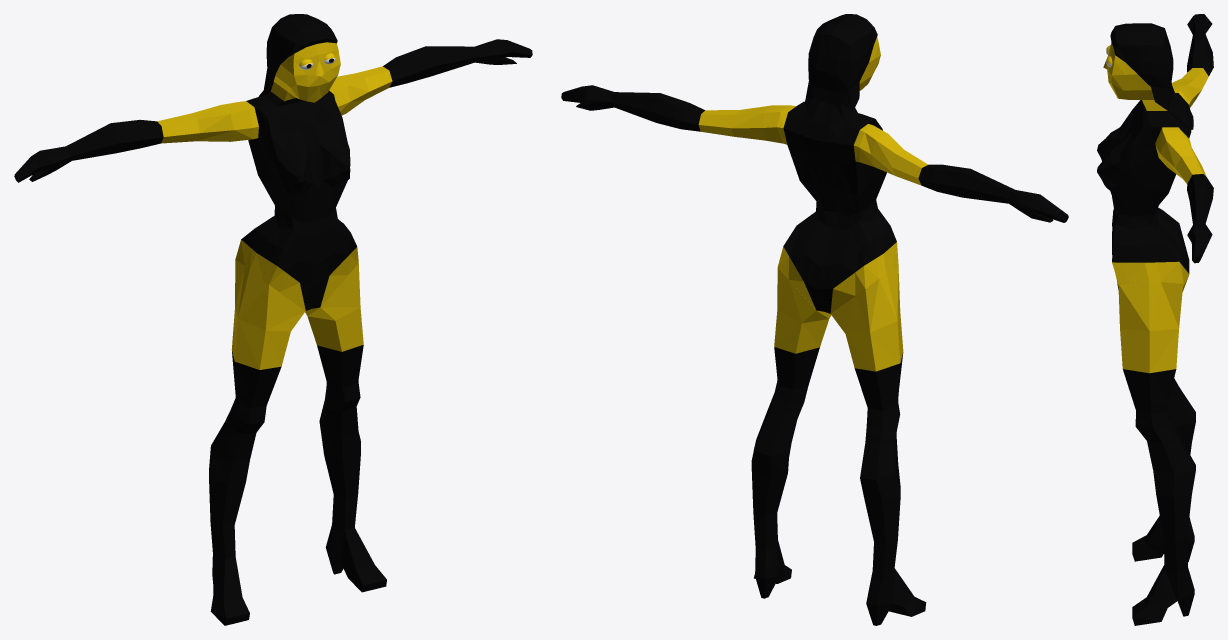
Rendered from Dom Nua.fbx.
The picture shows the model from 3 angles, left to right: view 1: azimuth 30°, elevation 25°; view 2: azimuth 150°, elevation 25°; view 3: azimuth 270°, elevation 25°; orthographic projection. The views are drawn at different scales.
Parts seen in each view (by area): view 1: Dom; view 2: Dom; view 3: Dom.
Part boxes in pixels (x1=…): Dom: x1=14, y1=14, x2=532, y2=625; Dom: x1=561, y1=14, x2=1068, y2=625; Dom: x1=1097, y1=14, x2=1213, y2=625.
Size of the model in its own units: 1.51 by 1.64 by 0.3086.
